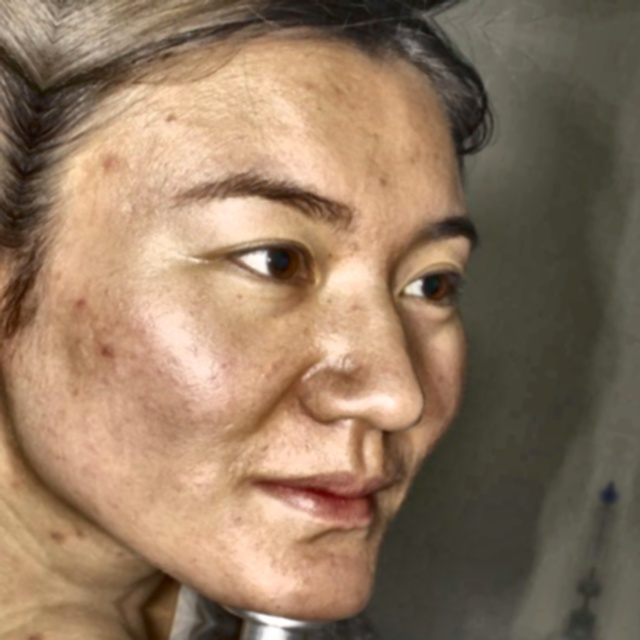comedone: (91, 147, 135, 188), (67, 289, 108, 326)
